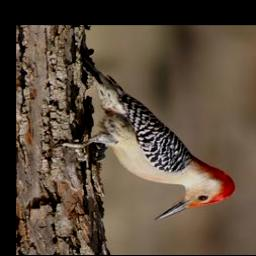Woodpecker: (51, 56, 240, 222)
